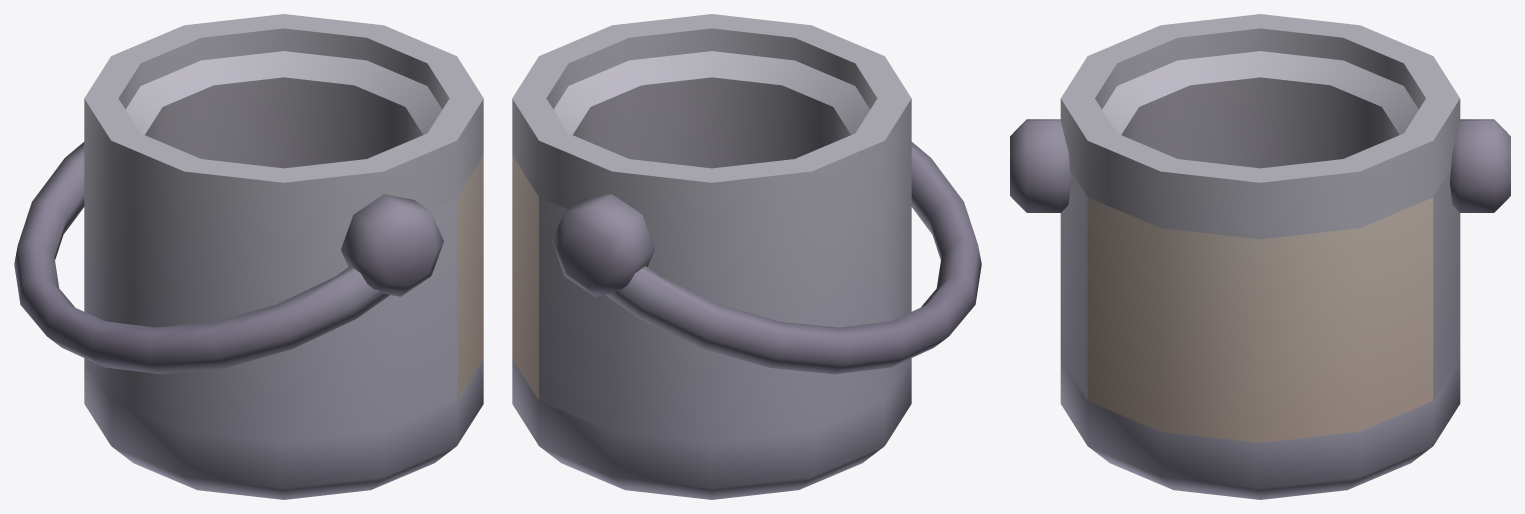
The model's file is paint-can-empty.glb.
The picture shows the model from 3 angles, left to right: view 1: azimuth 30°, elevation 25°; view 2: azimuth 150°, elevation 25°; view 3: azimuth 270°, elevation 25°; orthographic projection.
Parts seen in each view (by area): view 1: paint-can-empty; view 2: paint-can-empty; view 3: paint-can-empty.
Boxes of the visible parts, x1,y1,x2,y2 form: paint-can-empty: (14,14,483,499); paint-can-empty: (512,14,981,499); paint-can-empty: (1010,14,1510,499).
Bounding box in the file's own units: 0.3792 × 0.29 × 0.4011.
